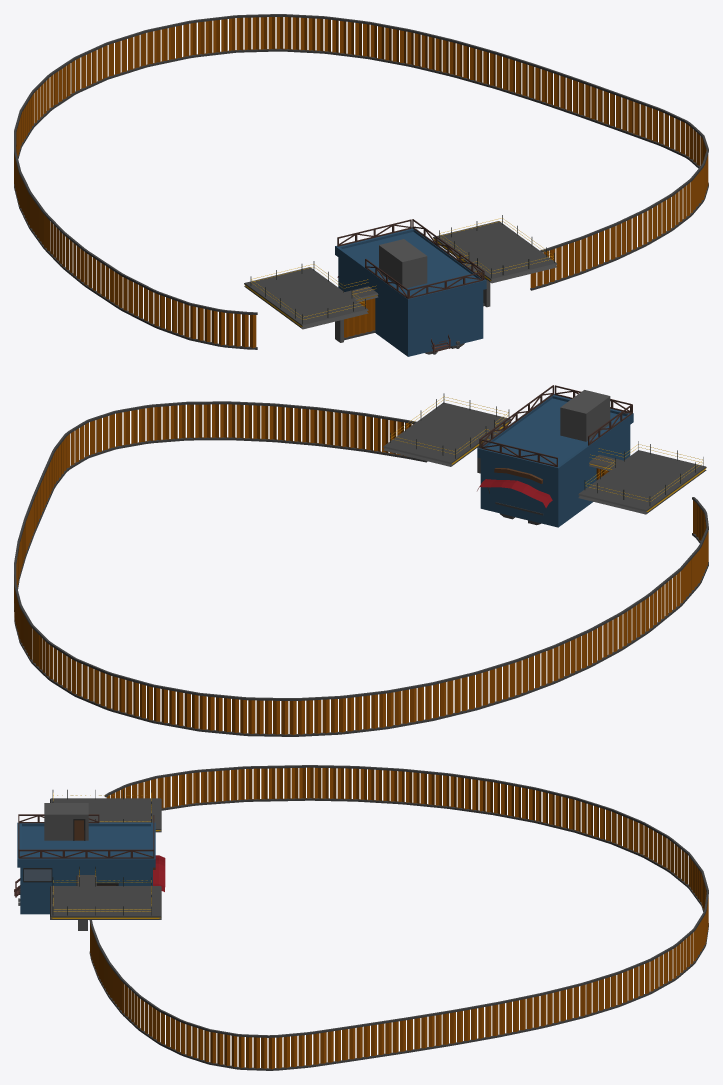
File: obj_SetMecanoCity.fbx
The picture shows the model from 3 angles, top to bottom: view 1: azimuth 30°, elevation 25°; view 2: azimuth 150°, elevation 25°; view 3: azimuth 270°, elevation 25°; orthographic projection. The views are drawn at different scales.
Visible parts, largest first — view 1: obj_anillado, obj_casona, obj_baseTorreIzq, obj_baseTorreDer, obj_portónIzq; view 2: obj_anillado, obj_casona, obj_baseTorreIzq, obj_baseTorreDer, obj_torreMecanos; view 3: obj_anillado, obj_casona, obj_baseTorreDer, obj_baseTorreIzq.
Boxes of the visible parts, x1,y1,x2,y2 form: obj_anillado: (14, 14, 708, 349); obj_casona: (335, 219, 486, 356); obj_baseTorreIzq: (244, 261, 368, 329); obj_baseTorreDer: (433, 215, 557, 283); obj_portónIzq: (335, 298, 375, 342); obj_anillado: (14, 401, 708, 736); obj_casona: (477, 385, 633, 527); obj_baseTorreIzq: (578, 441, 706, 514); obj_baseTorreDer: (383, 393, 511, 466); obj_torreMecanos: (477, 479, 552, 507); obj_anillado: (89, 765, 708, 1070); obj_casona: (17, 803, 155, 914); obj_baseTorreDer: (50, 877, 161, 919); obj_baseTorreIzq: (50, 789, 161, 832).
Size of the model in its own units: 81.9 by 11.86 by 88.75.
